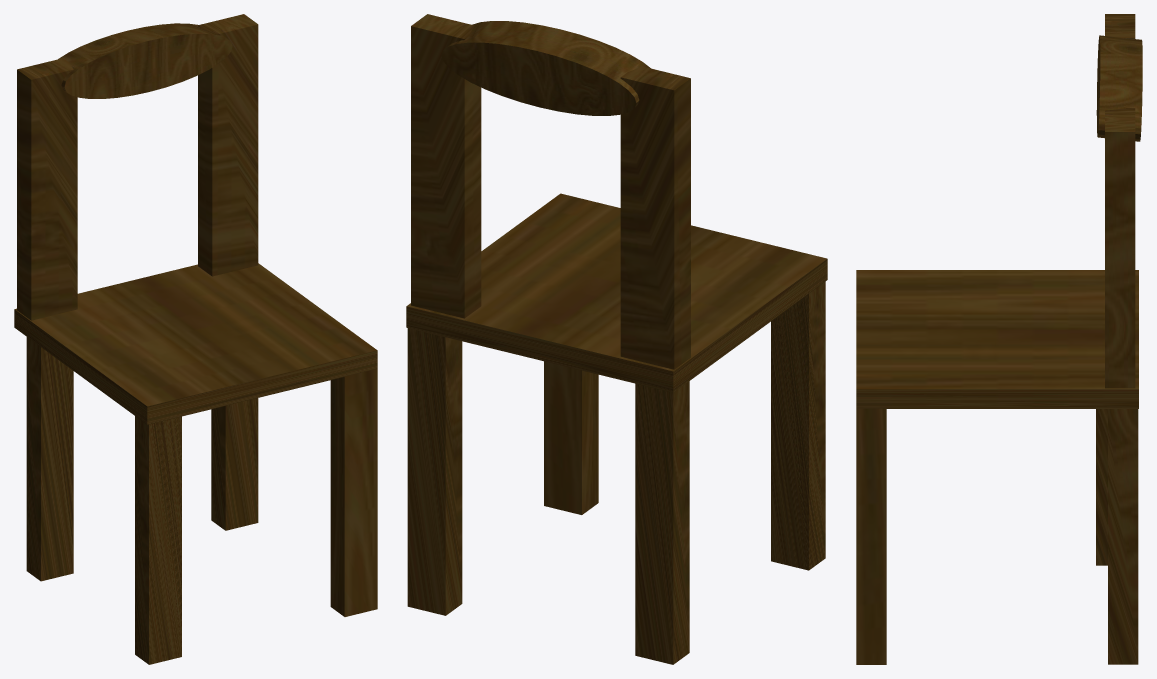
Rendered from chair_combined.obj.
3 views of the same model, side by side, from view 1: azimuth 30°, elevation 25°; view 2: azimuth 150°, elevation 25°; view 3: azimuth 270°, elevation 25° (orthographic). The views are drawn at different scales.
Parts seen in each view (by area): view 1: chair; view 2: chair; view 3: chair.
Boxes of the visible parts, x1,y1,x2,y2 form: chair: (14,14,377,664); chair: (406,14,827,664); chair: (856,14,1142,664).
Bounding box in the file's own units: 2 × 4.25 × 2.03.
1 material, 1 textured.
